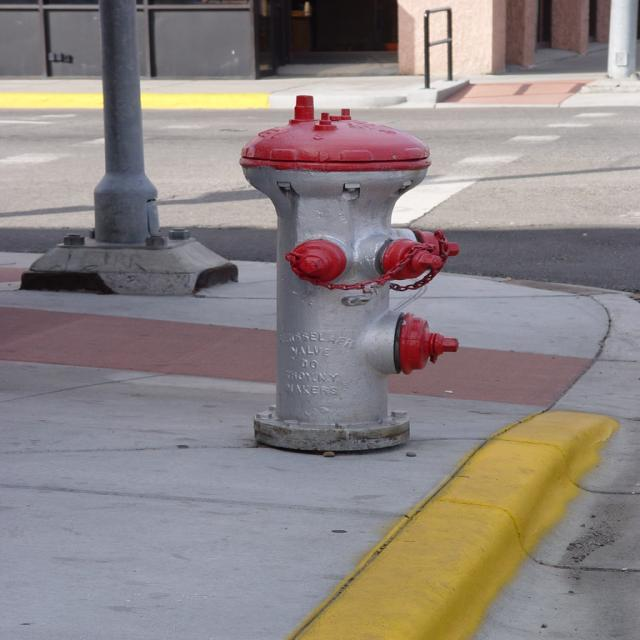fire_hydrant: (242, 96, 460, 454)
